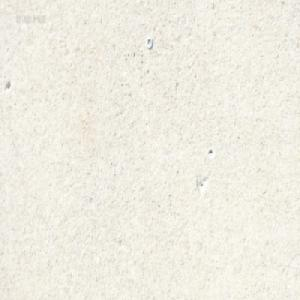Washer: (146, 36, 152, 48)
